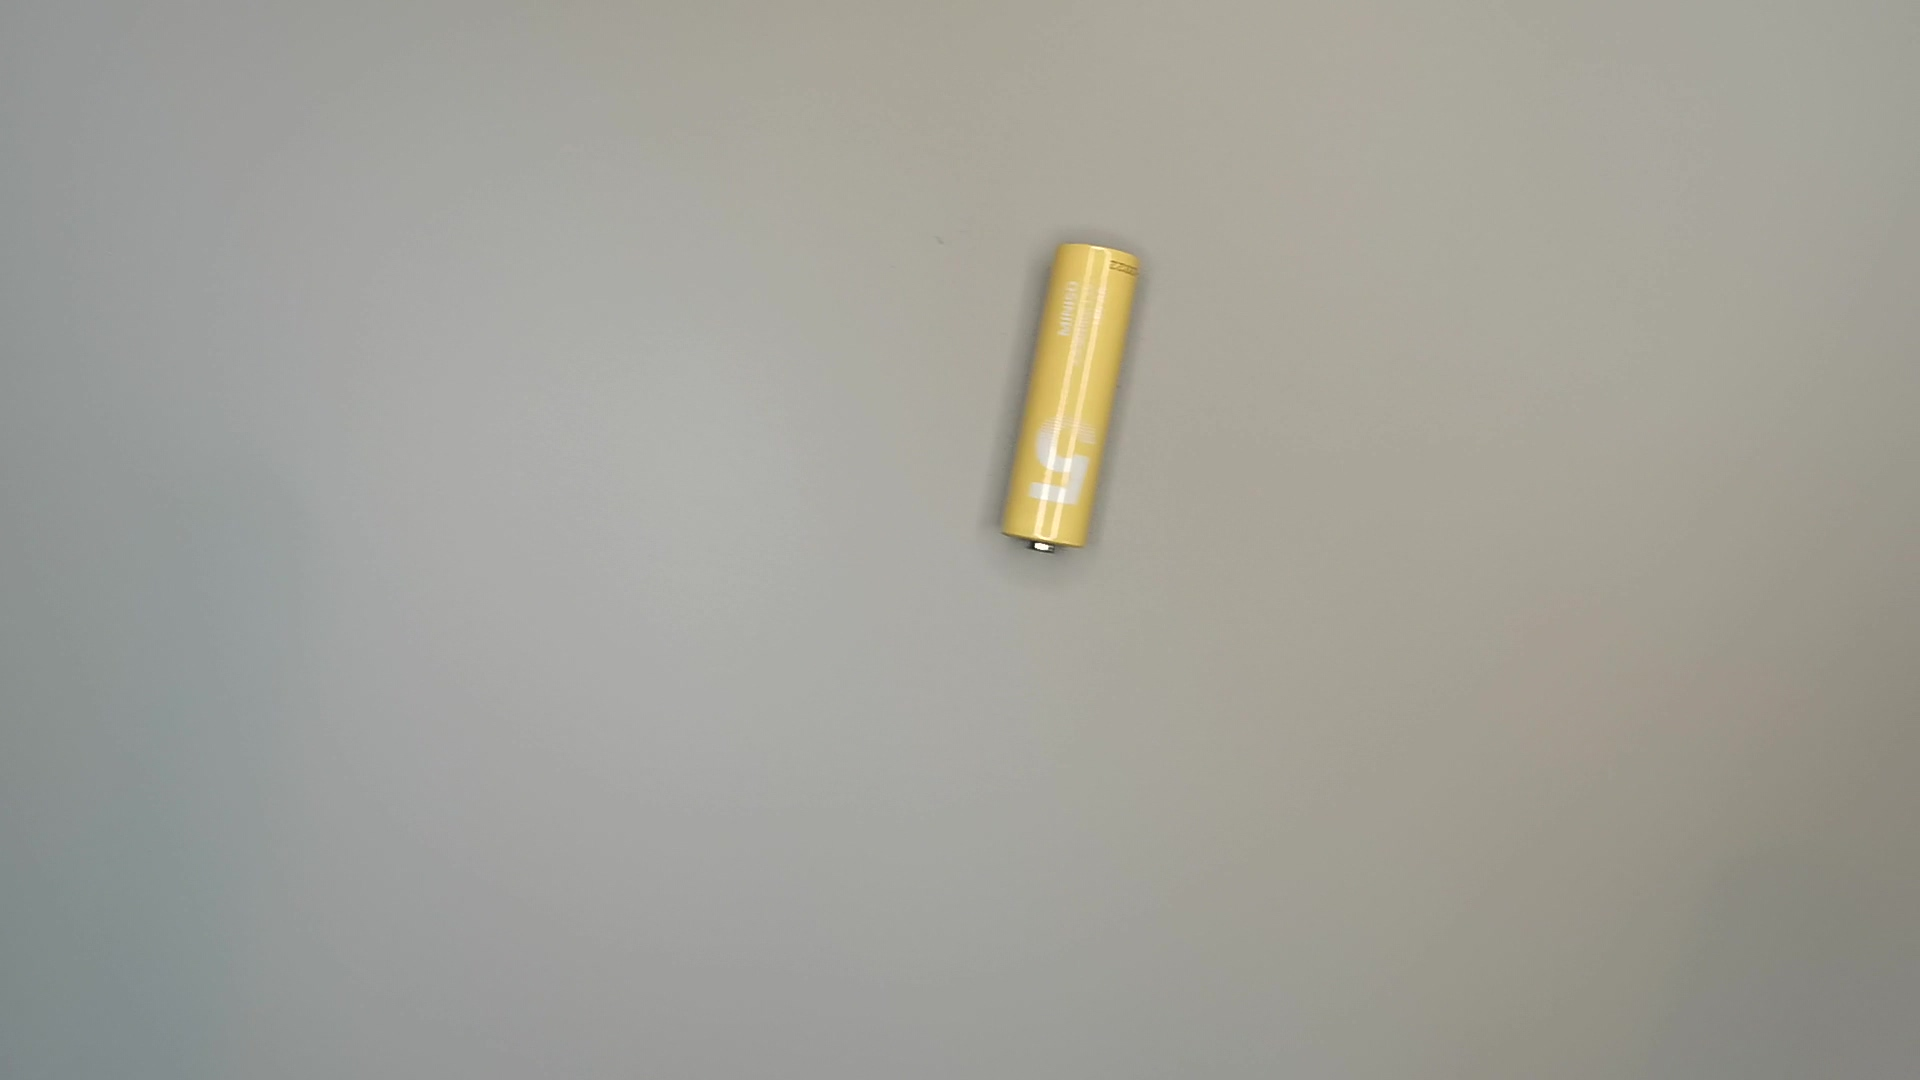battery: (986, 237, 1154, 560)
